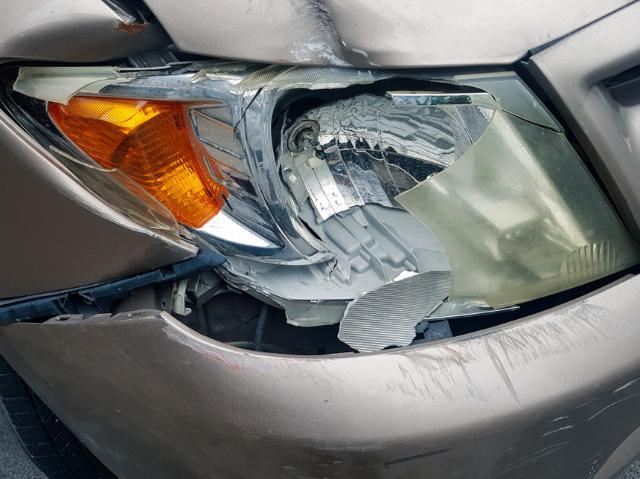Bonnet: (140, 0, 481, 64)
Bumper: (20, 309, 640, 479)
Light: (51, 67, 640, 301)
